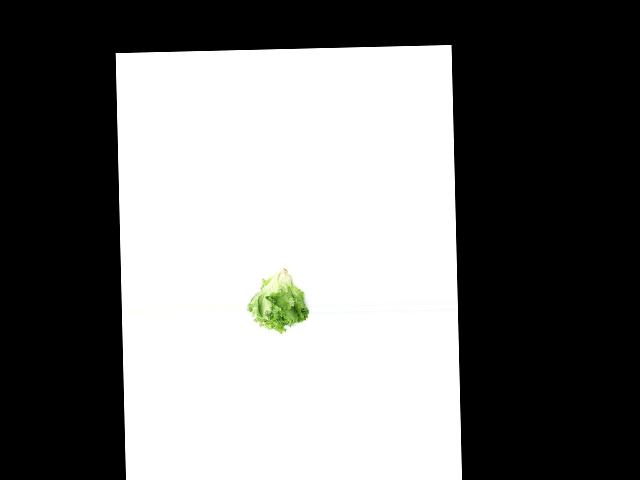lettuce: (244, 267, 310, 333)
